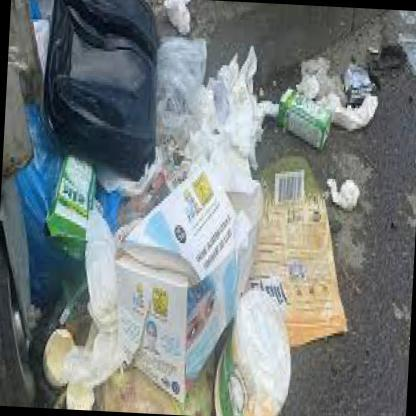Garbage: (137, 0, 365, 415), (107, 154, 265, 404), (202, 152, 332, 350), (212, 316, 306, 415), (275, 52, 376, 142), (196, 32, 264, 160), (68, 211, 113, 404), (48, 161, 108, 254), (290, 82, 378, 134), (312, 180, 358, 221)
